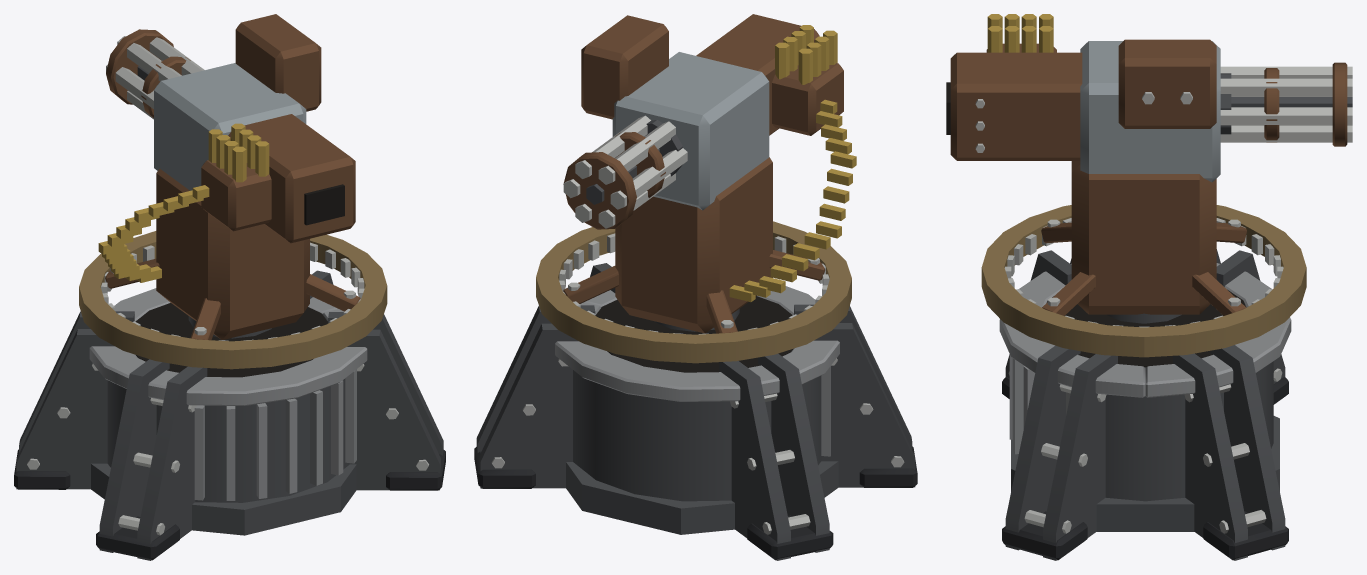
File: gun-turret.glb
3 views of the same model, side by side, from view 1: azimuth 30°, elevation 25°; view 2: azimuth 150°, elevation 25°; view 3: azimuth 270°, elevation 25° (orthographic). The views are drawn at different scales.
Visible parts, largest first — view 1: body, anim_turret_head; view 2: anim_turret_head, body; view 3: anim_turret_head, body.
Part boxes in pixels (<box>): body: <box>14,270,445,560</box>; anim_turret_head: <box>79,14,387,369</box>; anim_turret_head: <box>536,14,856,363</box>; body: <box>474,263,917,560</box>; anim_turret_head: <box>946,14,1352,357</box>; body: <box>999,249,1291,560</box>.
Size of the model in its own units: 1.98 by 2.3 by 1.87.
